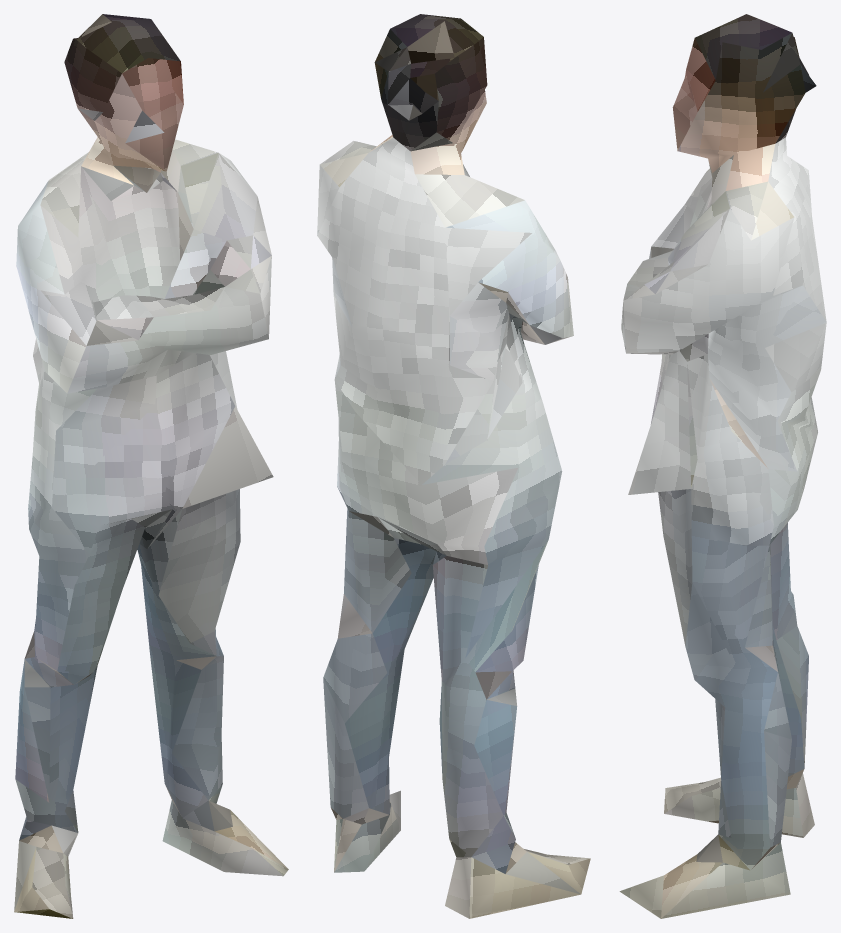
The picture shows the model from 3 angles, left to right: view 1: azimuth 30°, elevation 25°; view 2: azimuth 150°, elevation 25°; view 3: azimuth 270°, elevation 25°; orthographic projection. The views are drawn at different scales.
Parts seen in each view (by area): view 1: Object_3.001; view 2: Object_3.001; view 3: Object_3.001.
Part boxes in pixels (bbox=[...]): Object_3.001: bbox=[14, 14, 288, 918]; Object_3.001: bbox=[317, 14, 590, 918]; Object_3.001: bbox=[619, 14, 826, 918].
Bounding box in the file's own units: 0.5452 × 1.77 × 0.3952.
Materials: 1 (1 with a texture image).
